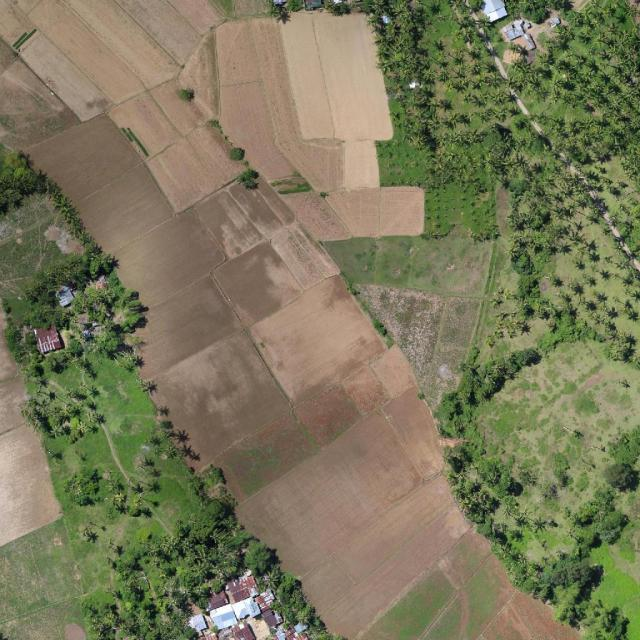agricultural_land: (322, 167, 550, 410), (0, 423, 81, 638), (194, 567, 294, 640), (76, 591, 130, 622)
building: (197, 570, 272, 640), (491, 0, 574, 60), (251, 582, 312, 640), (208, 595, 263, 632), (186, 611, 210, 635), (232, 620, 256, 640), (546, 14, 562, 30)
greenland: (0, 144, 114, 328), (368, 250, 375, 258)
